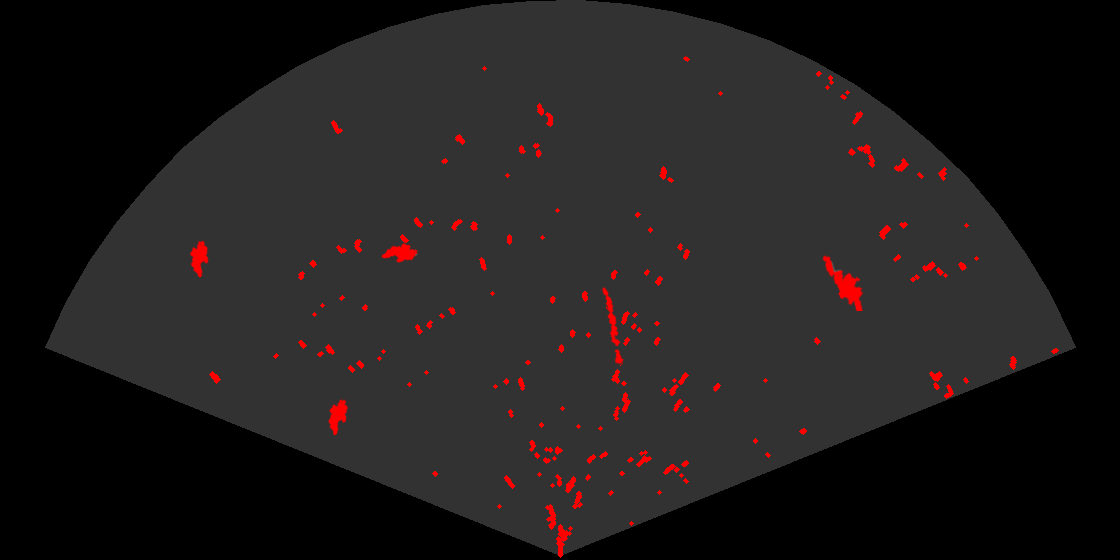AUV: (379, 241, 419, 264), (327, 397, 350, 437), (188, 239, 210, 279)
chain: (601, 285, 625, 365)
frogman: (821, 253, 865, 311)
